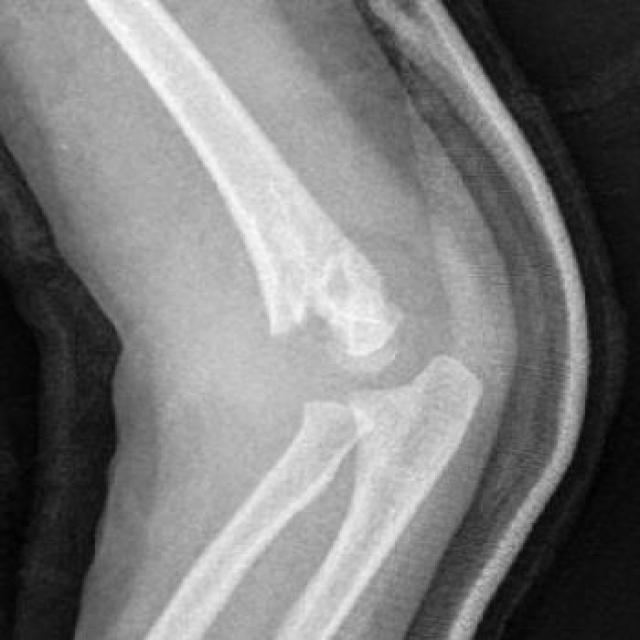Fracture: (257, 310, 381, 425)
